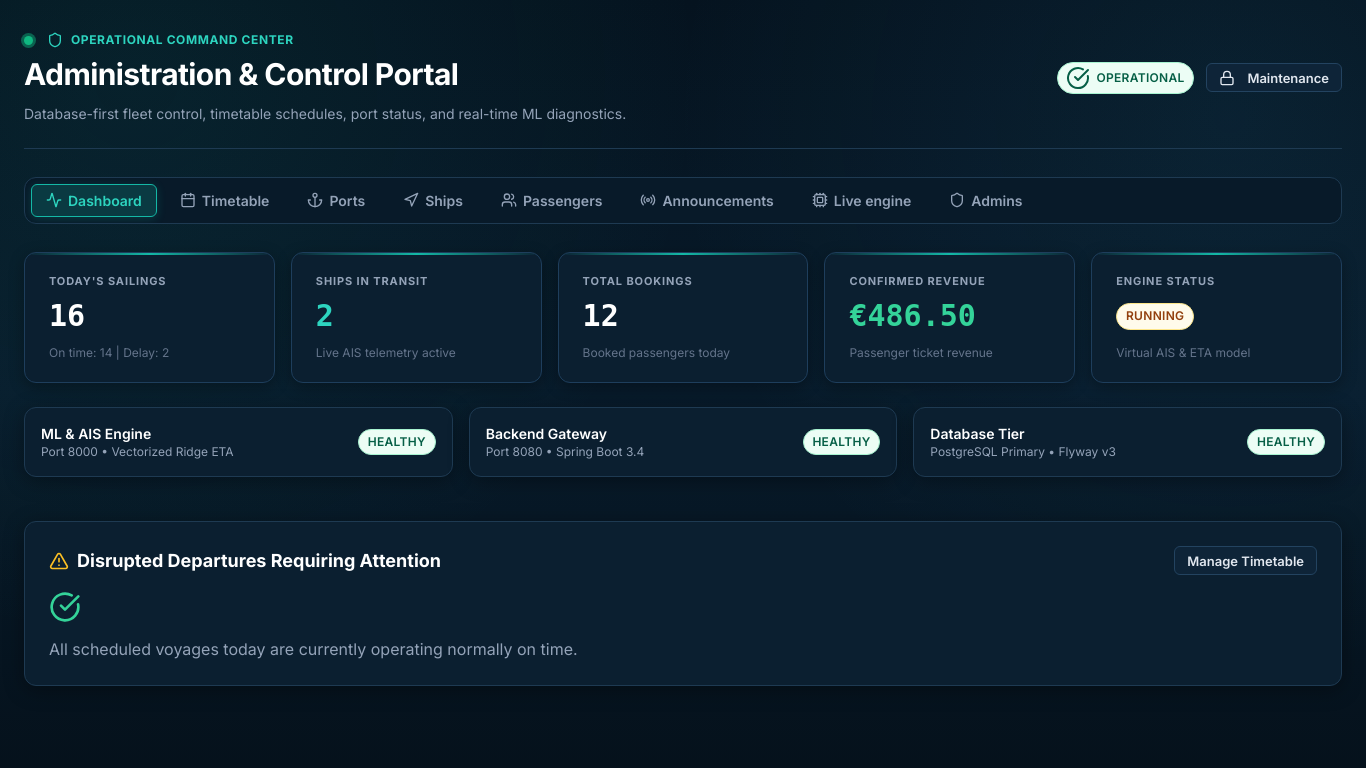
Test case: AdminPage Component › switches to Timetable tab and displays operating services and dated departures
Step 1. Click the button "Timetable" → {"x": 225, "y": 200}, box [165,184,284,217]
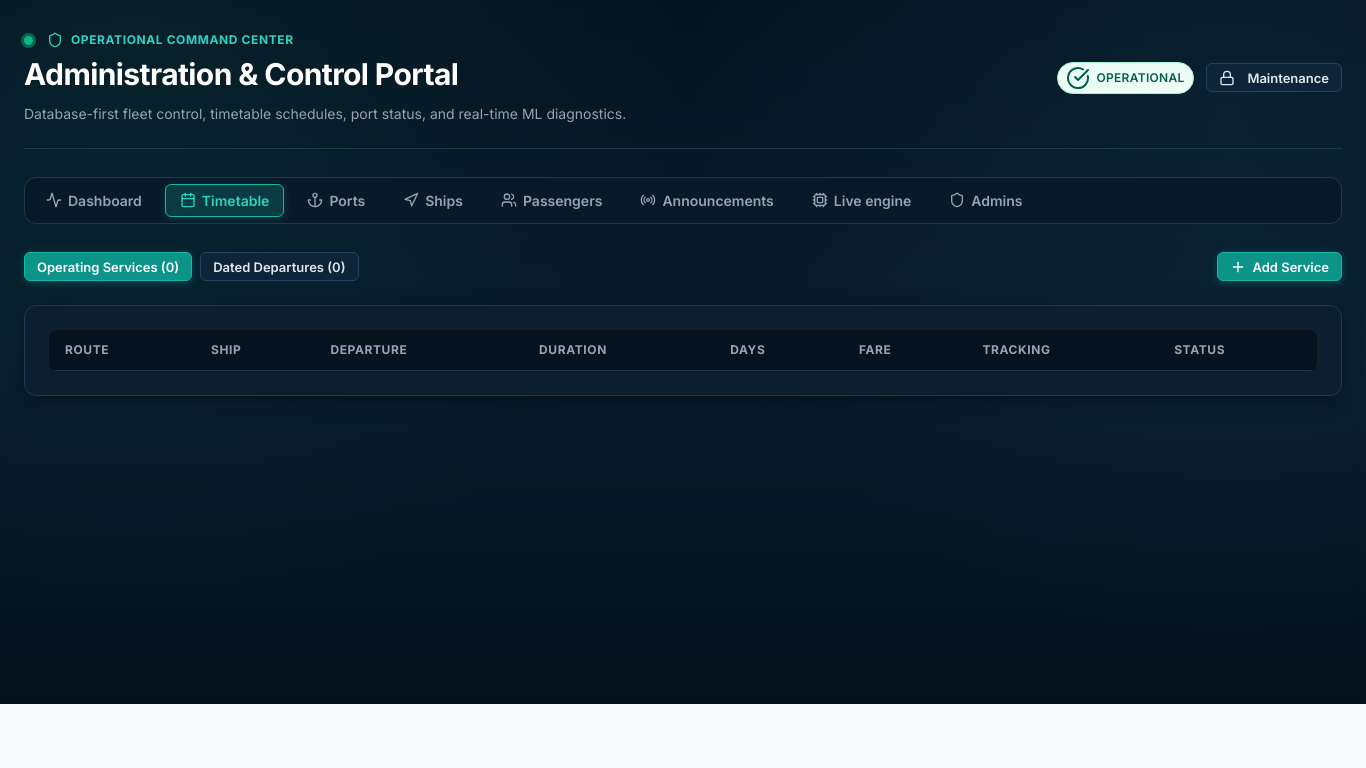
Expected: the button "Operating Services (0)" is shown, [24,252,192,281]
Expected: the button "Dated Departures (0)" is shown
Expected: the button "Add Service" is shown, [1217,252,1342,281]
Switch to dated departures
Step 2. Click the button "Dated Departures (0)" → {"x": 279, "y": 267}, box [200,252,359,281]
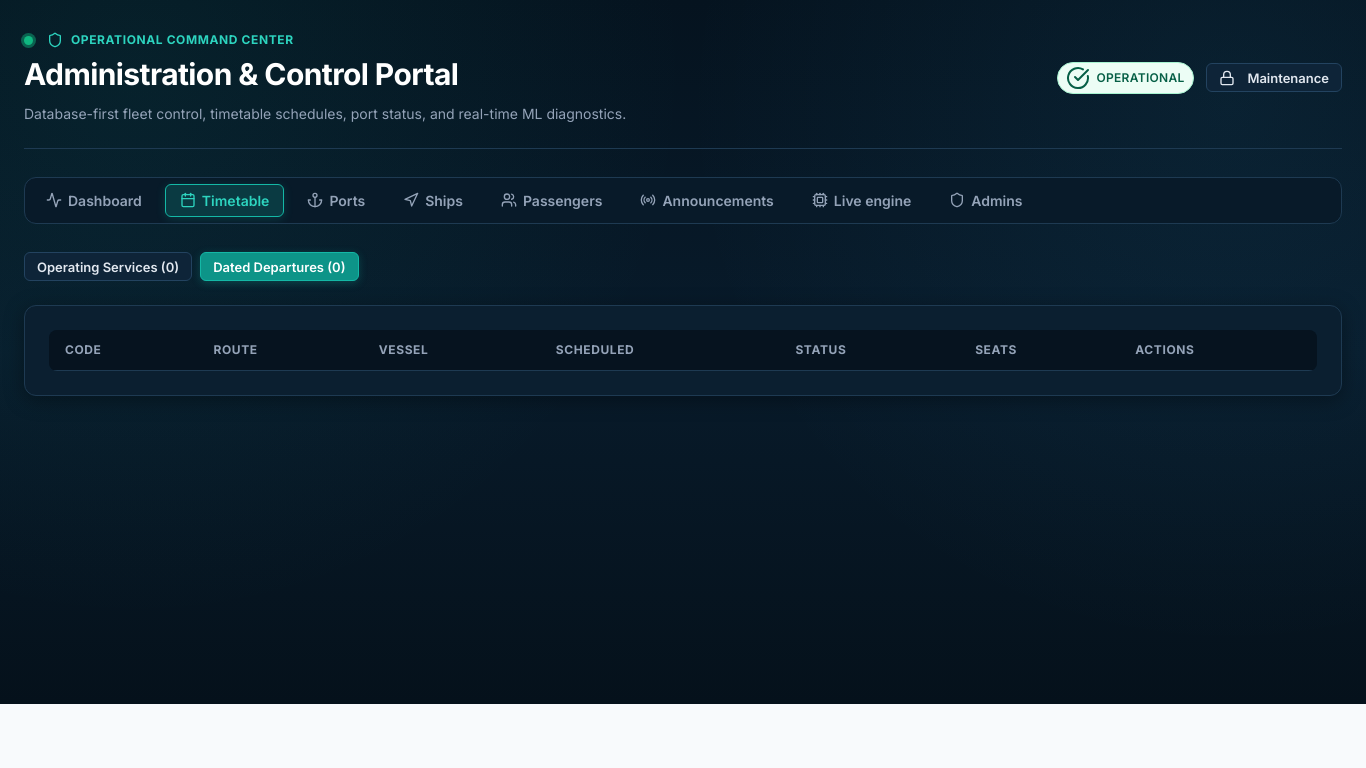
Expected: the column heading "Seats" is shown, [959,330,1119,371]
